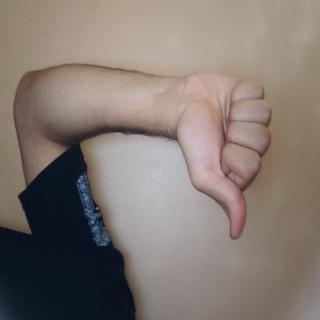DAD: (49, 60, 182, 210)
